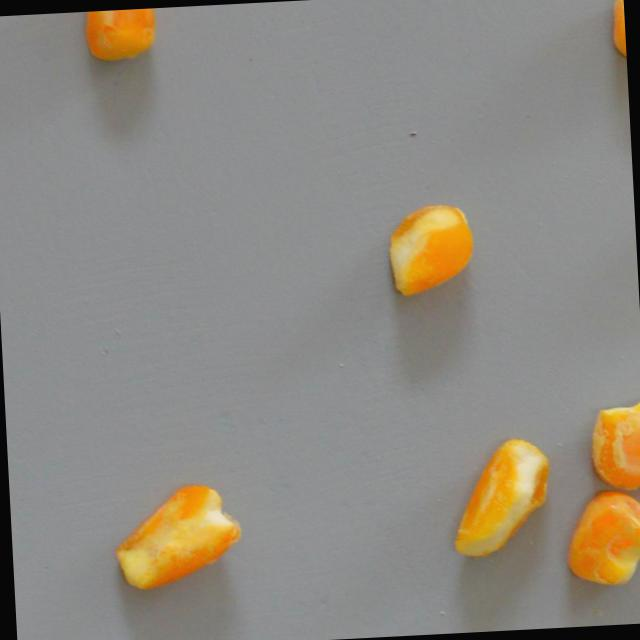no_canjicado: (385, 204, 476, 298)
pelicula: (113, 483, 245, 598), (447, 437, 557, 564), (560, 490, 640, 593), (589, 391, 640, 490), (84, 8, 157, 66), (609, 0, 627, 70)
